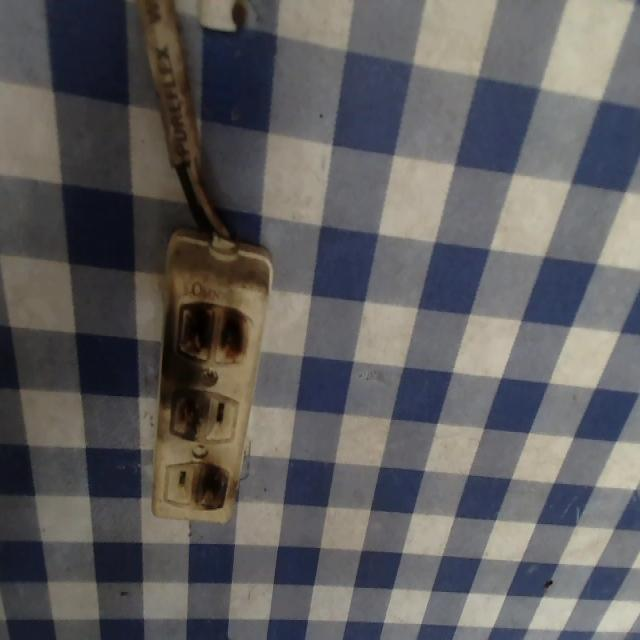-: (176, 298, 249, 366), (166, 388, 208, 443), (192, 459, 231, 513)
